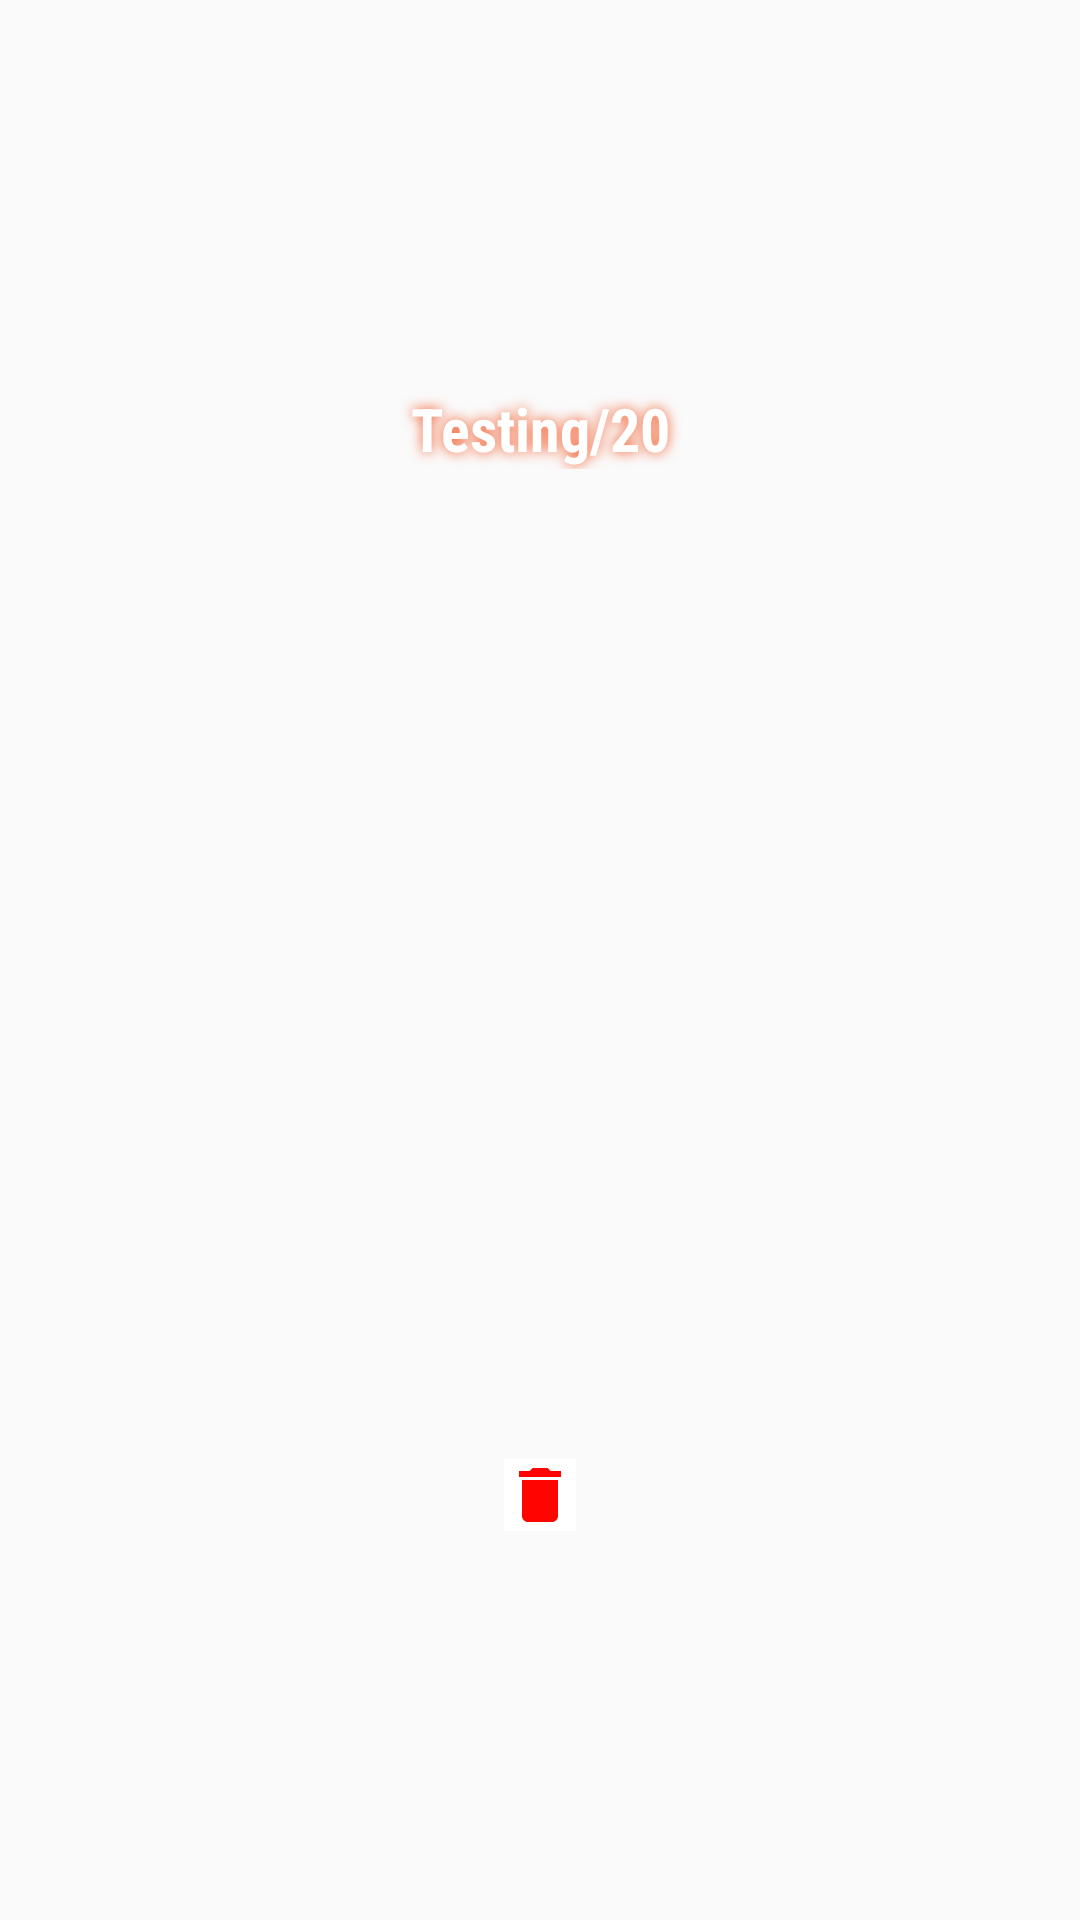

Point at icon controls on the screen. Image size 1080×1920, points as [x,y].
delete: [540,1495]
